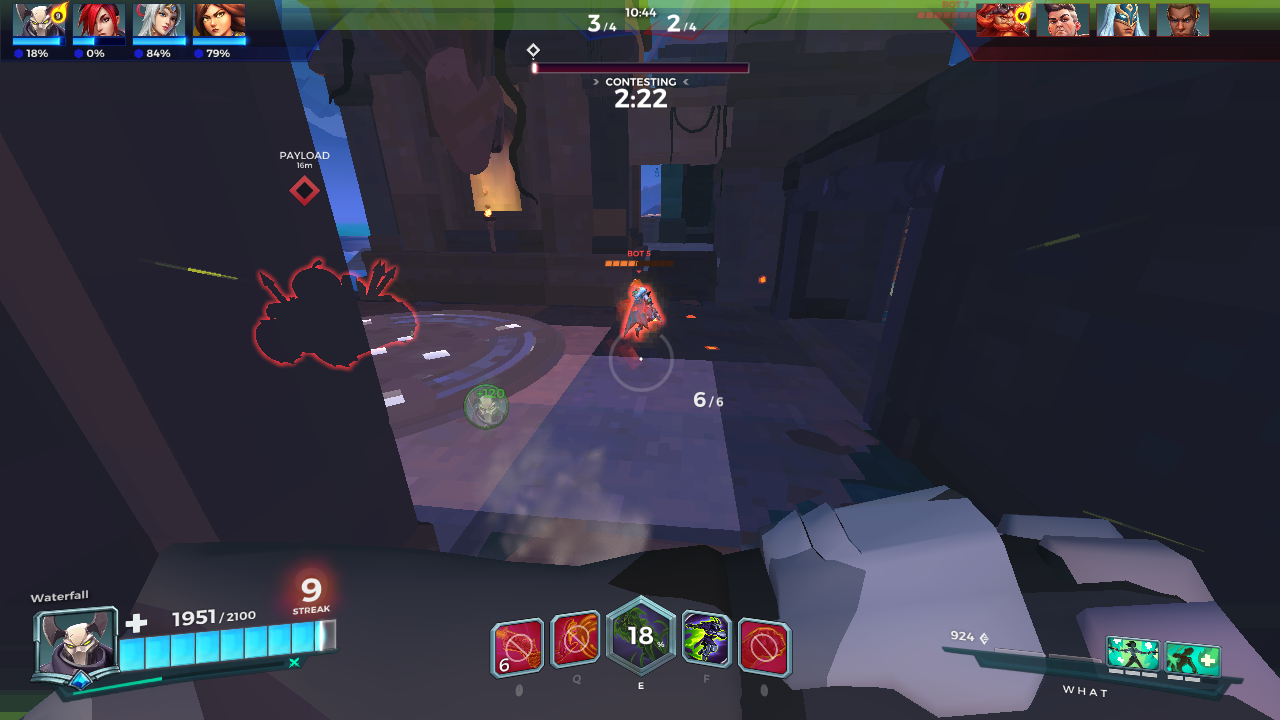model: (617, 280, 668, 348)
